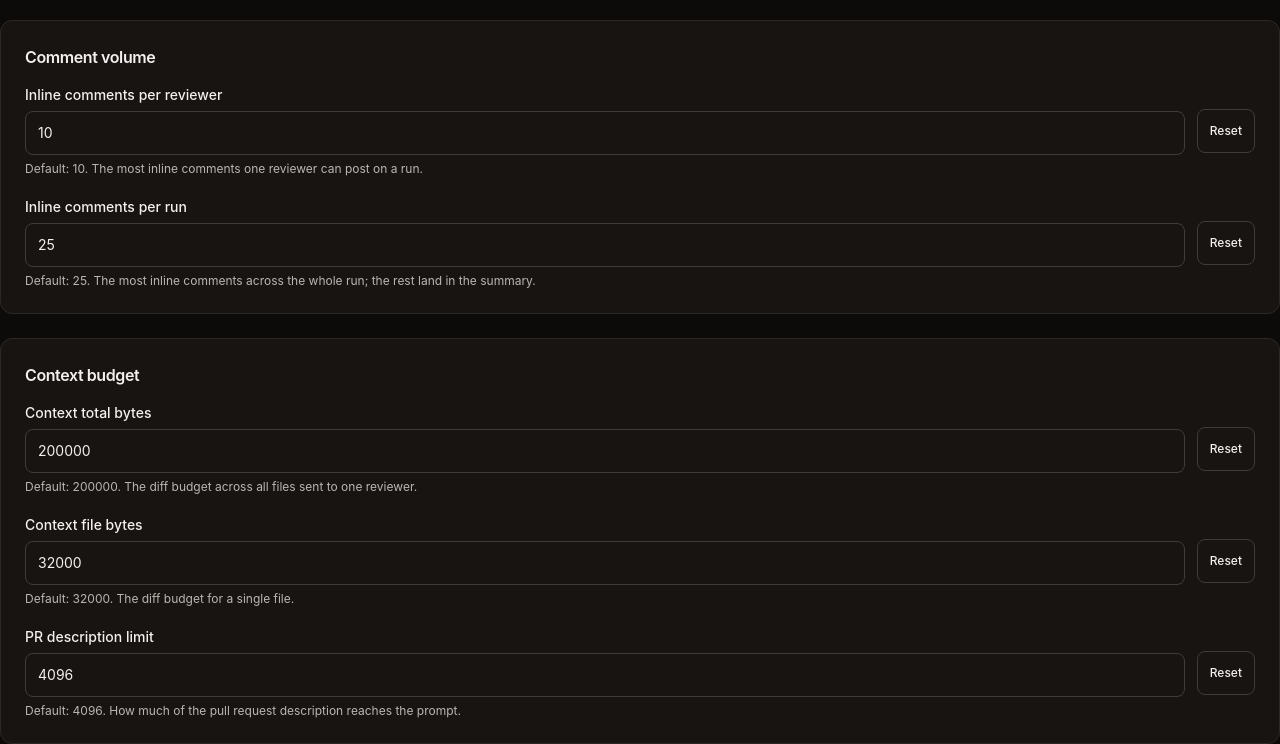
Test: SettingsPage › groups the numbers with their defaults and stages a change
The image size is (1280, 744).
Replace the text in the number field labelled "Inline comments per reviewer" with "12" at (605, 133), box [25, 111, 1185, 155]
(page scrolled)
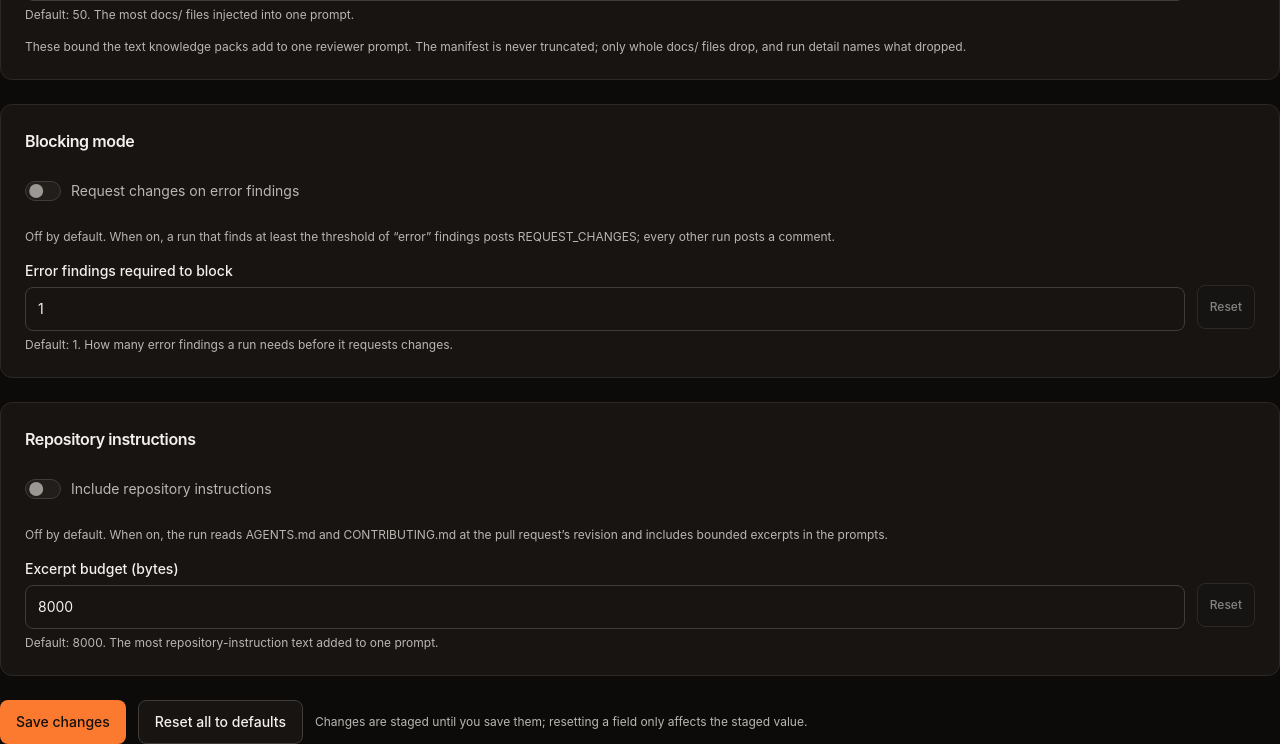
Expected: the button "Save changes" is enabled, [0, 700, 126, 743]
